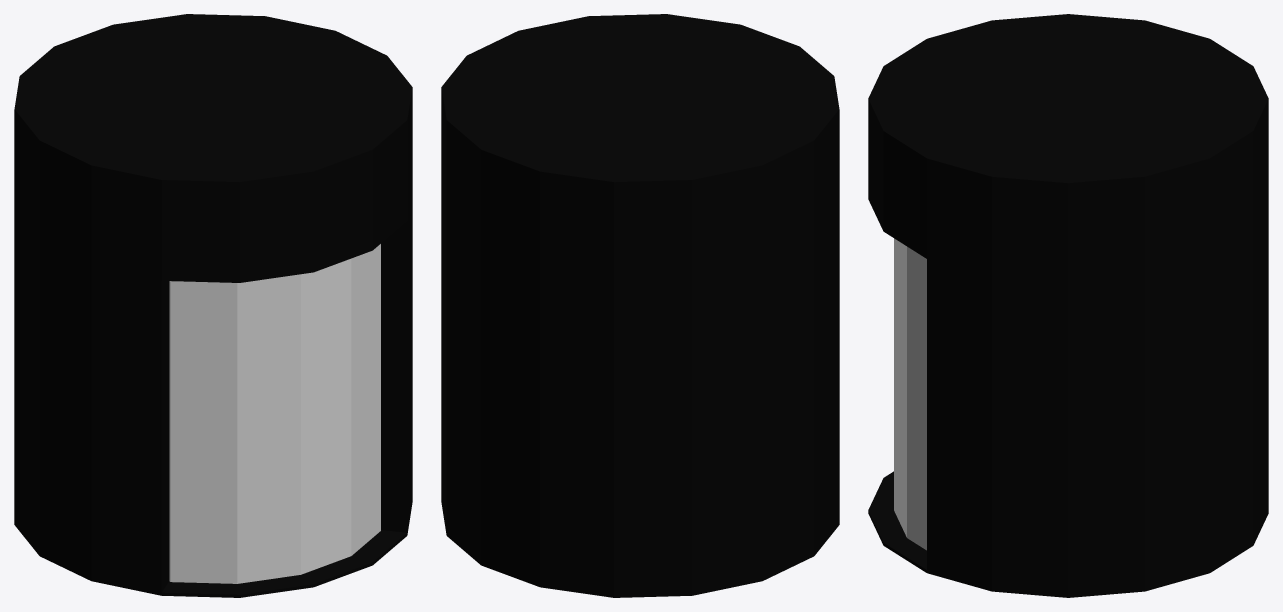
The model's file is Elevador.gltf.
3 renders of one model, left to right at view 1: azimuth 30°, elevation 25°; view 2: azimuth 150°, elevation 25°; view 3: azimuth 270°, elevation 25°, orthographic.
Parts seen in each view (by area): view 1: Elevador, Porta_Elevador.001, Porta_Elevador.002; view 2: Elevador; view 3: Elevador, Porta_Elevador.002.
Boxes of the visible parts, x1,y1,x2,y2 form: Elevador: (14, 14, 412, 597); Porta_Elevador.001: (169, 274, 300, 583); Porta_Elevador.002: (301, 244, 380, 574); Elevador: (441, 14, 839, 597); Elevador: (868, 14, 1268, 597); Porta_Elevador.002: (894, 238, 926, 550).
Size of the model in its own units: 3.5 by 4 by 3.5.
2 materials, 1 textured.
